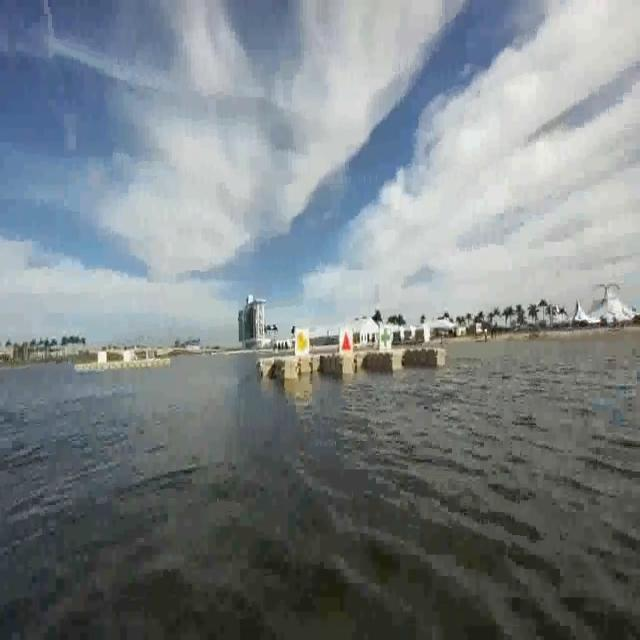blue-cross: (380, 324, 393, 351)
red-dot: (341, 327, 354, 355)
yellow-duck: (292, 328, 308, 358)
